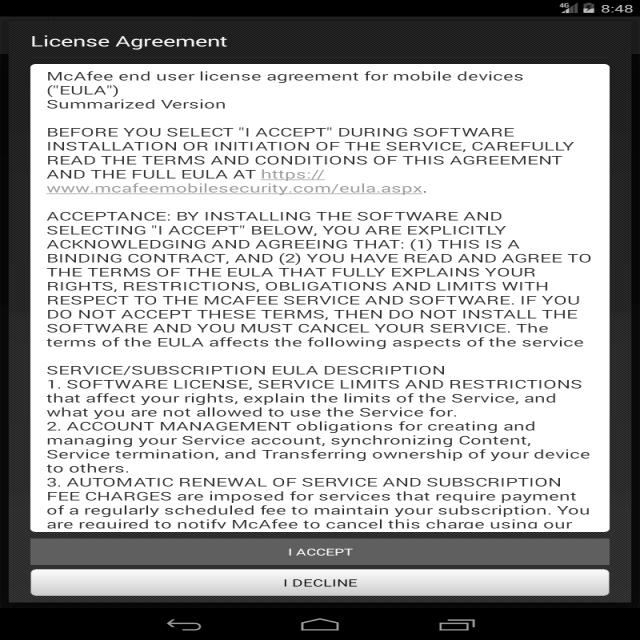Button: (24, 565, 610, 597), (28, 536, 611, 564)
TextView: (44, 364, 592, 529), (41, 210, 594, 348), (41, 126, 582, 196), (40, 72, 538, 110), (19, 27, 246, 51)
